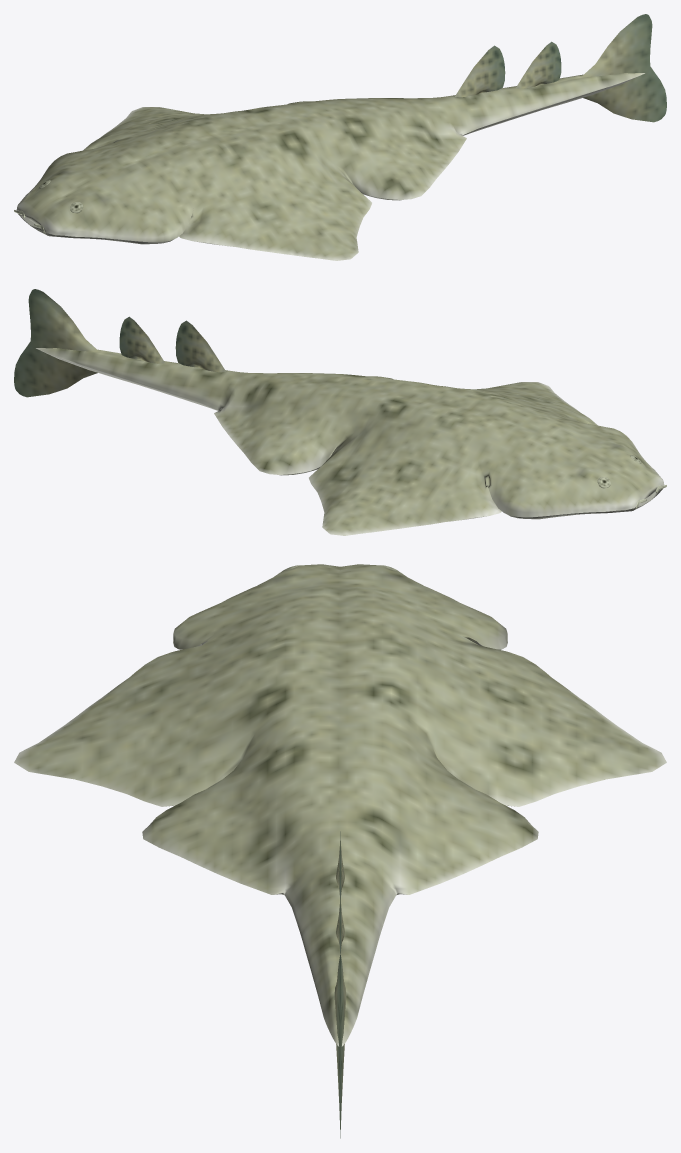
File: AngelShark0.obj
The picture shows the model from 3 angles, top to bottom: view 1: azimuth 30°, elevation 25°; view 2: azimuth 150°, elevation 25°; view 3: azimuth 270°, elevation 25°; orthographic projection. The views are drawn at different scales.
Visible parts, largest first — view 1: object1, object7, object3, object5, object13; view 2: object1, object8, object4, object6, object13; view 3: object1.
Boxes of the visible parts, <box> form: object1: <box>16,73,644,260</box>; object7: <box>581,14,666,122</box>; object3: <box>455,45,505,97</box>; object5: <box>516,41,561,88</box>; object13: <box>18,76,638,246</box>; object1: <box>36,348,664,535</box>; object8: <box>14,289,99,396</box>; object4: <box>175,320,225,372</box>; object6: <box>119,316,164,363</box>; object13: <box>42,351,662,521</box>; object1: <box>14,564,666,1046</box>.
Size of the model in its own units: 0.3996 by 0.0692 by 0.2256.
